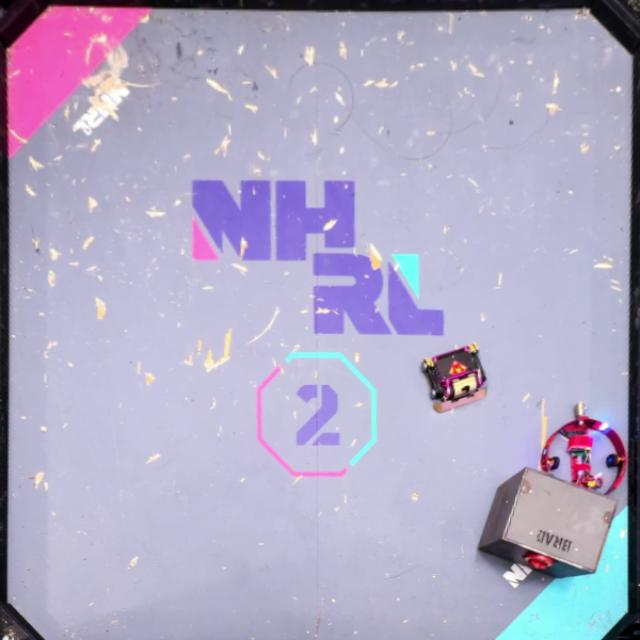housebot: (478, 468, 617, 578)
robot: (539, 402, 626, 498), (421, 342, 488, 412)
